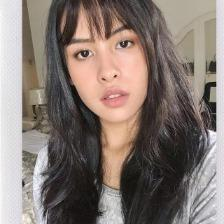Non hijab: (44, 1, 211, 224)
